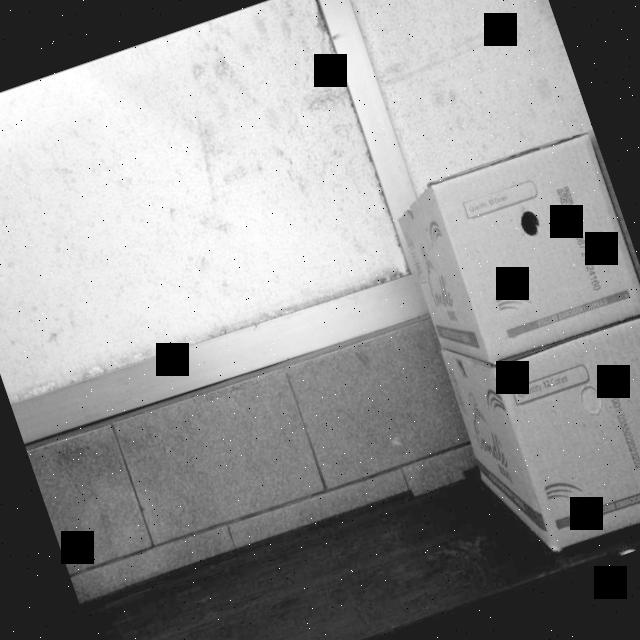box: (428, 131, 640, 363), (491, 314, 640, 556)
